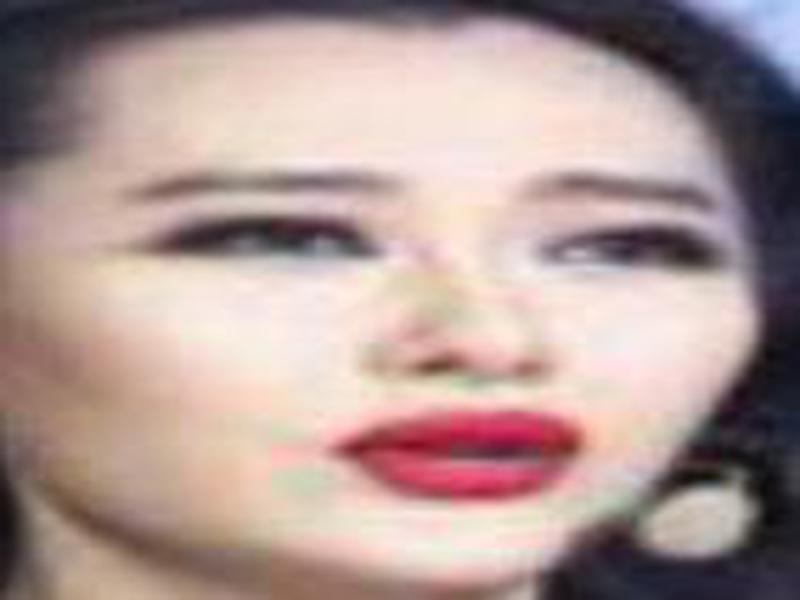without_mask: (27, 19, 757, 584)
